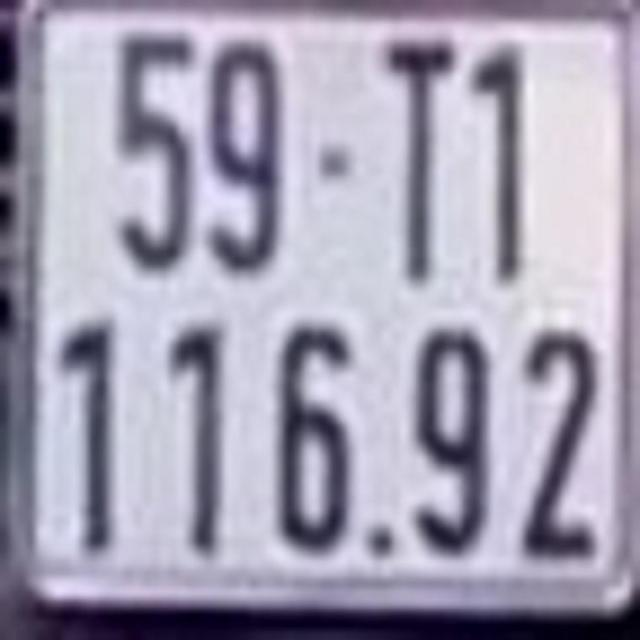1: (163, 316, 224, 559), (58, 308, 114, 556), (466, 38, 522, 270)
2: (522, 324, 601, 560)
5: (118, 30, 196, 274)
6: (276, 316, 349, 542)
9: (412, 332, 487, 554), (210, 45, 276, 266)
T: (384, 36, 458, 270)
